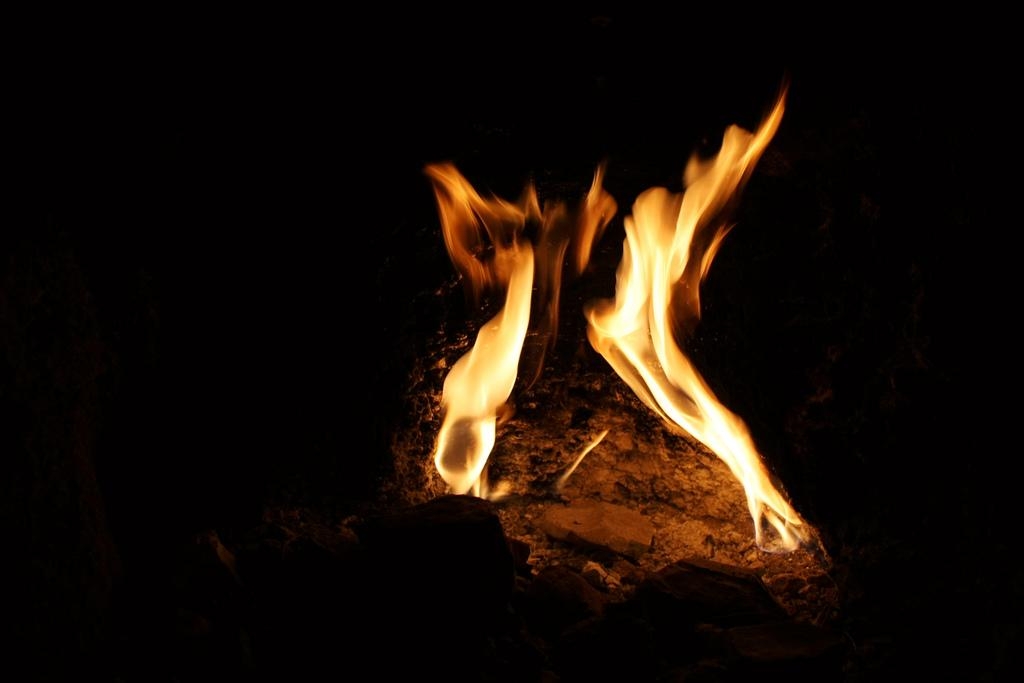fire: (628, 230, 668, 370), (465, 327, 522, 417), (630, 238, 672, 357), (720, 427, 755, 482)
